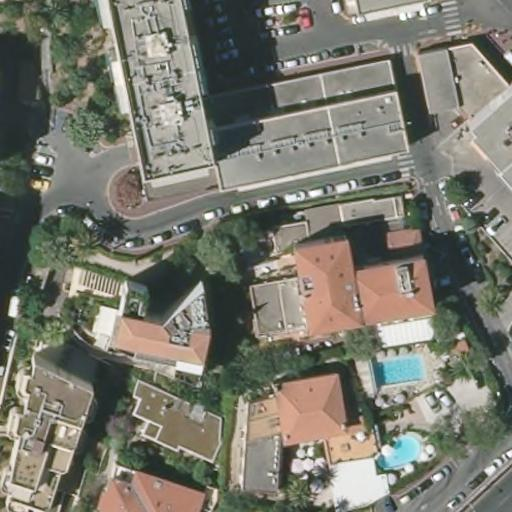pool: (365, 354, 431, 388), (375, 432, 424, 469)
